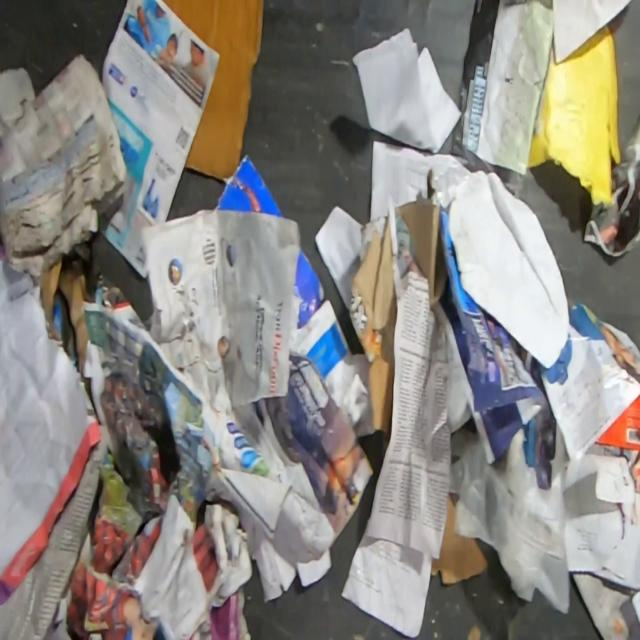cardboard: (162, 0, 264, 181), (527, 22, 622, 207), (348, 214, 396, 432), (396, 196, 448, 310), (431, 493, 488, 584), (594, 393, 640, 451)
soft_plastic: (449, 419, 571, 616)
